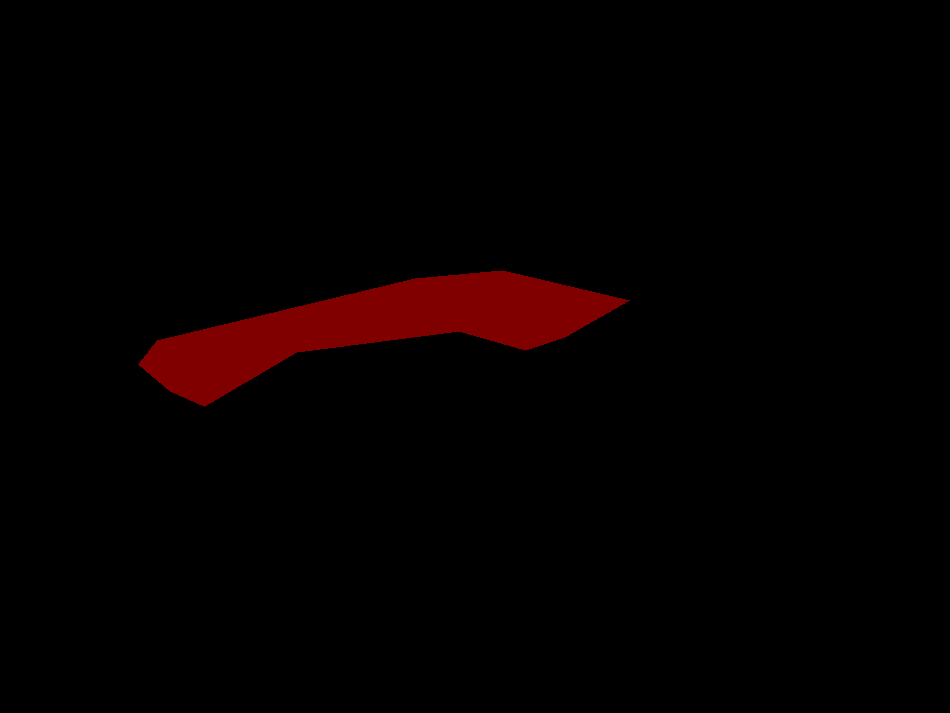fire: (138, 270, 629, 406)
